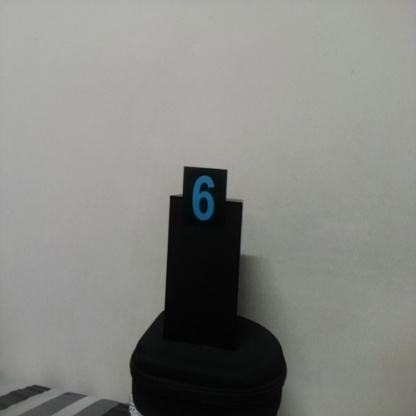id_6: (182, 168, 229, 241)
